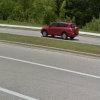Car: (34, 14, 85, 44)
